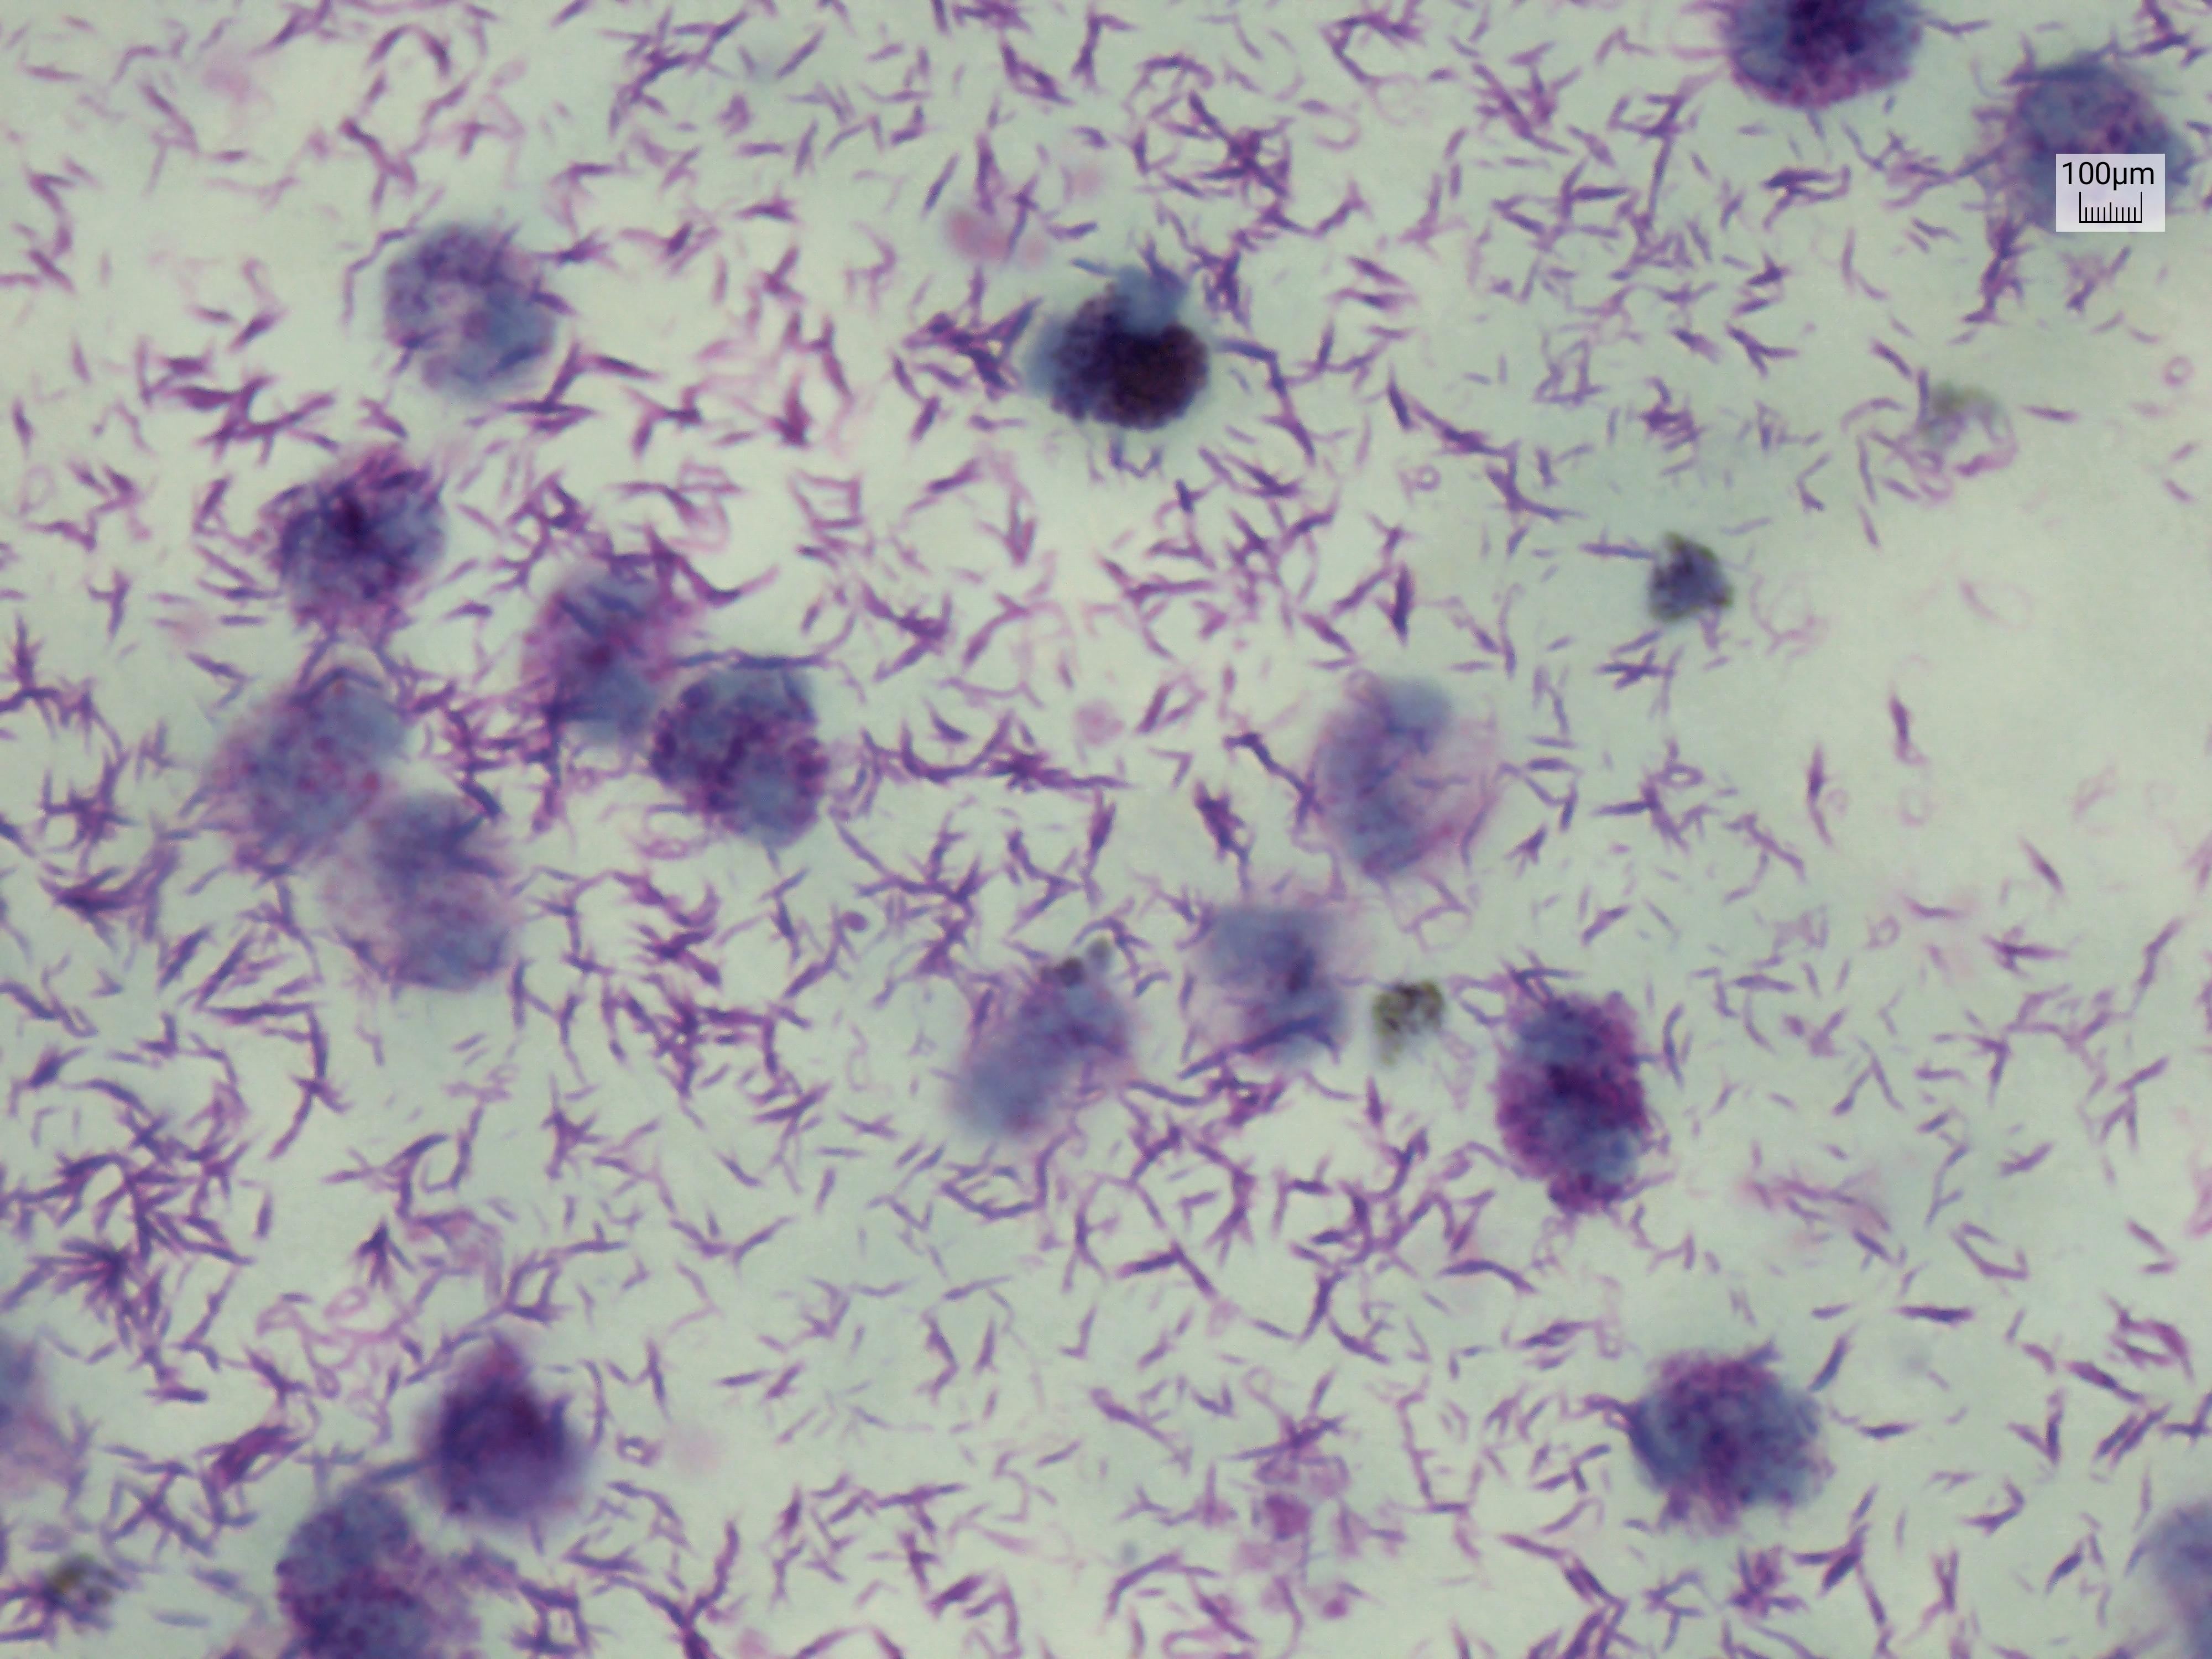p.vivax: (1031, 249, 1226, 455), (1360, 950, 1447, 1101), (1637, 518, 1737, 648)
